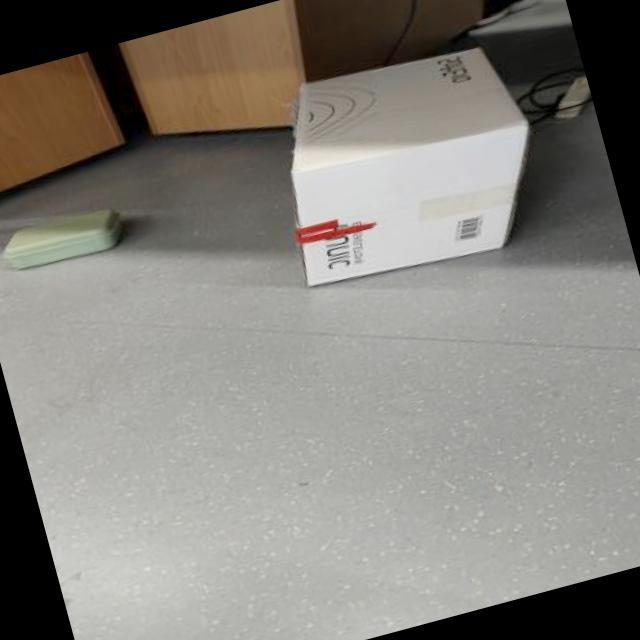box: (242, 5, 584, 306), (0, 178, 157, 289)
